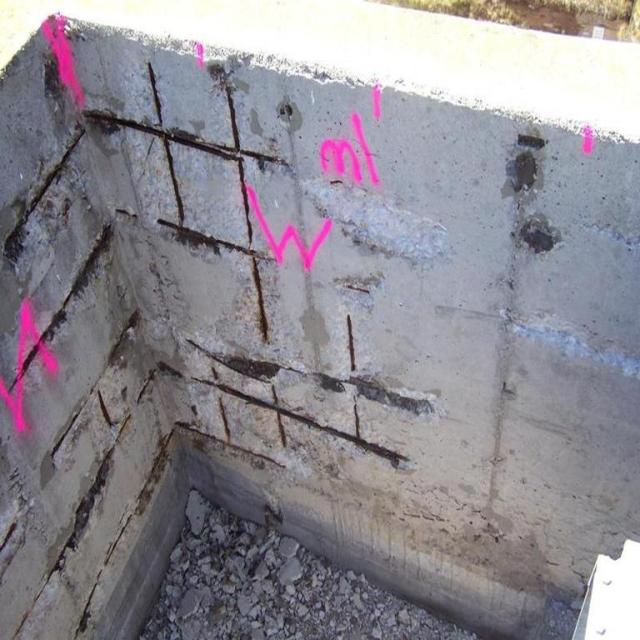spalling: (3, 20, 547, 638), (497, 123, 569, 281)
